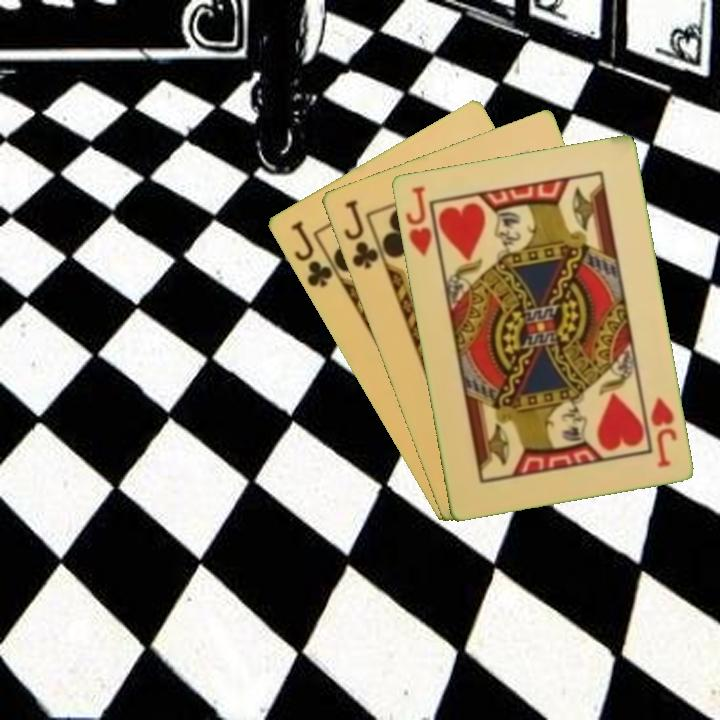Jc: (287, 217, 342, 291), (339, 196, 381, 272)
Jh: (401, 182, 443, 263), (646, 392, 679, 470)
